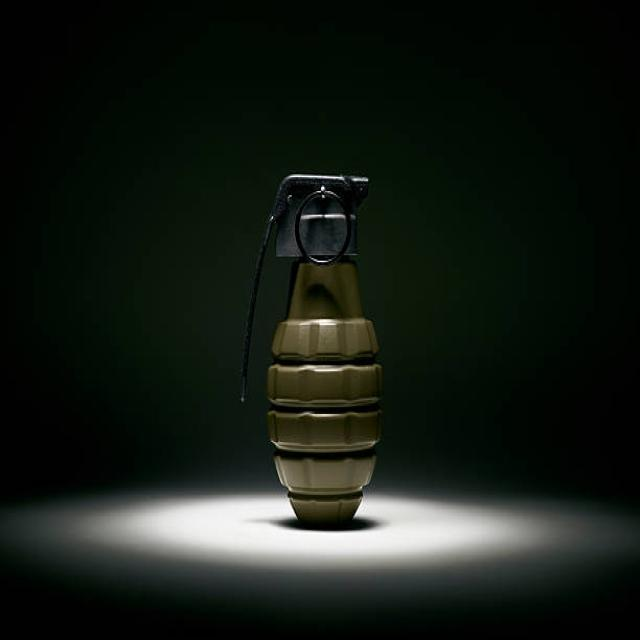grenade: (231, 164, 390, 531)
